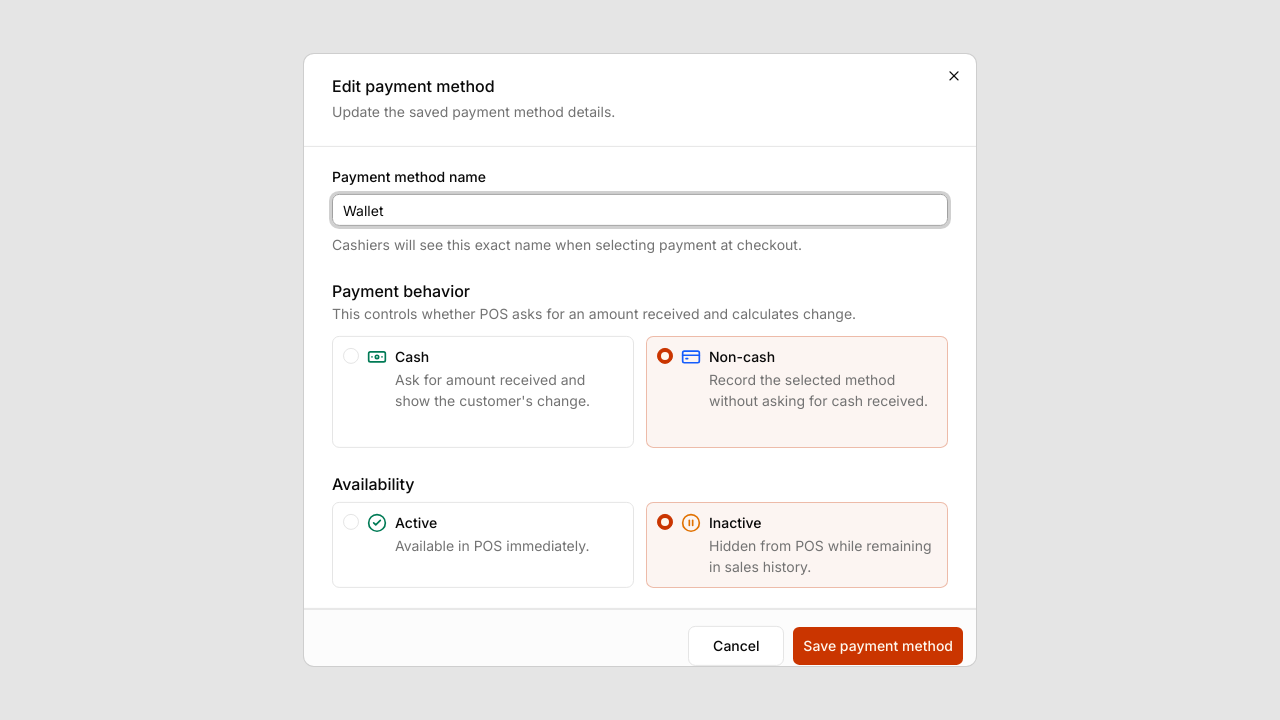
Test: payment method editor › keeps failed edits and allows an inactive method to be reactivated
This screenshot has width=1280, height=720.
Click the 3rd radio button named "Active". click: click(351, 522)
box: x1=343 y1=514 x2=359 y2=530
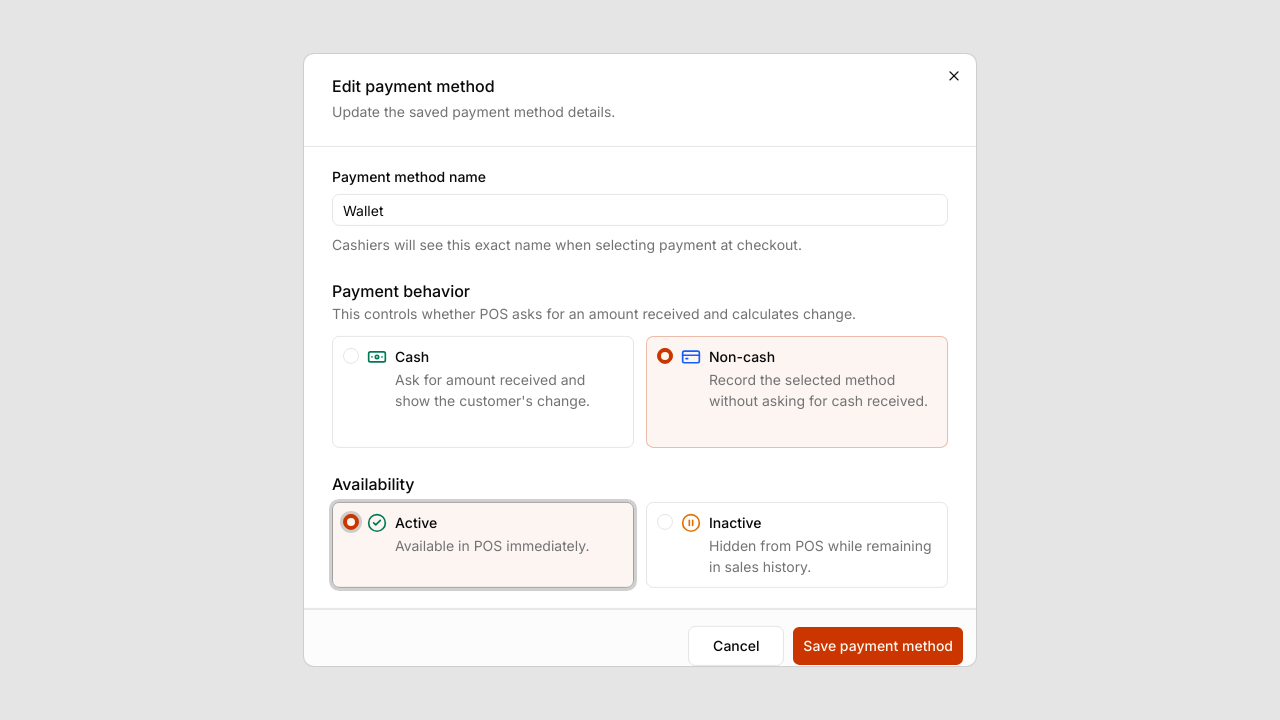
Replace the text in the field labelled "Payment method name" with "GCash". click: (640, 210)
box: x1=332 y1=194 x2=948 y2=226
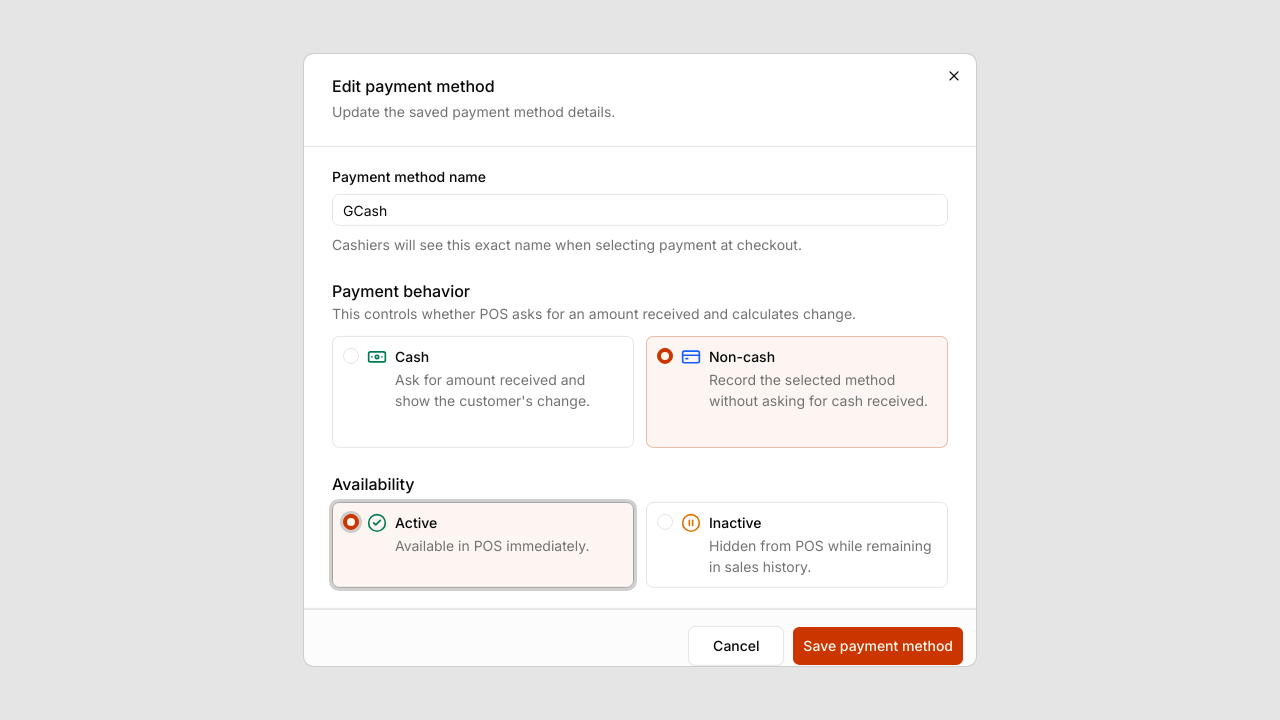
Click the button "Save payment method". click: click(878, 646)
box: x1=792 y1=626 x2=964 y2=666
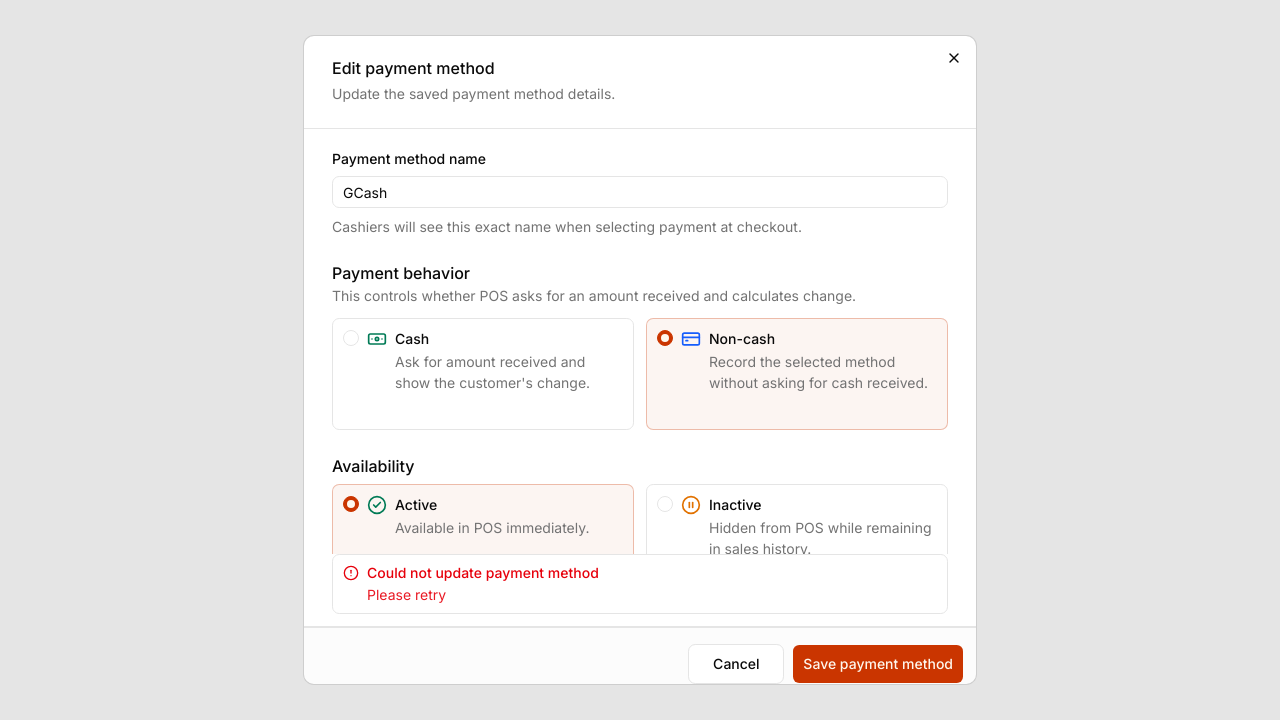
Expected: the message shows "Please retry", x1=367 y1=586 x2=446 y2=603
